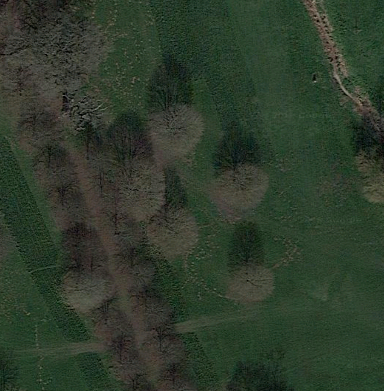tree: (142, 89, 206, 161), (145, 202, 204, 262), (58, 265, 117, 316), (209, 164, 272, 211), (221, 255, 276, 298), (41, 179, 91, 224), (346, 155, 384, 212), (115, 253, 165, 290), (135, 293, 181, 330)
